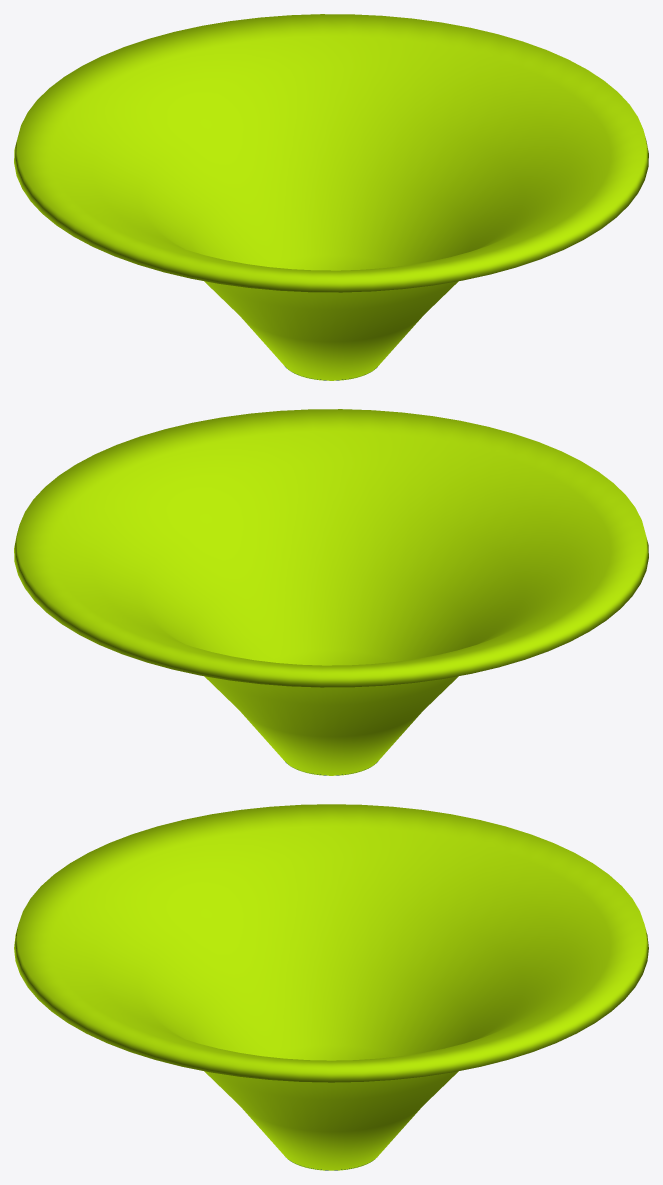
File: Funnel.fbx
3 views of the same model, one above another, from view 1: azimuth 30°, elevation 25°; view 2: azimuth 150°, elevation 25°; view 3: azimuth 270°, elevation 25° (orthographic).
Visible parts, largest first — view 1: Circle; view 2: Circle; view 3: Circle.
Boxes of the visible parts, x1=… form: Circle: x1=14, y1=14, x2=648, y2=380; Circle: x1=14, y1=409, x2=648, y2=775; Circle: x1=14, y1=804, x2=648, y2=1170.
Bounding box in the file's own units: 49680 × 18433 × 49680.
